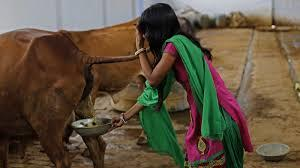cow: (0, 27, 152, 168), (67, 16, 156, 102)
